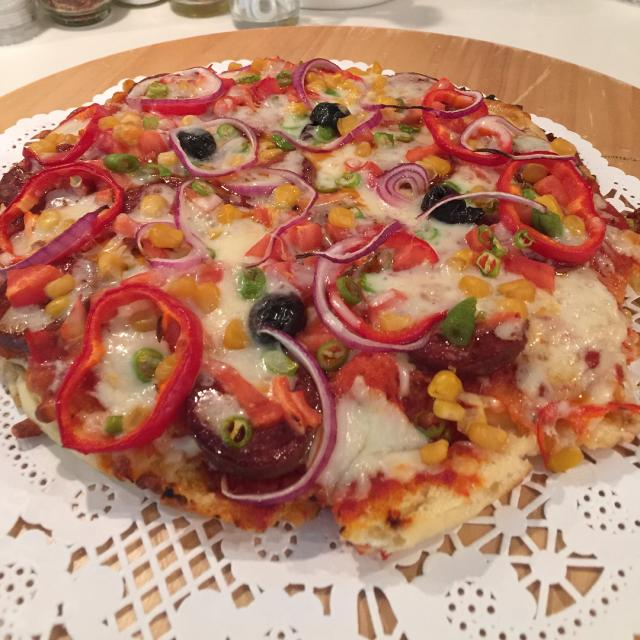black_olives: (250, 290, 304, 348), (417, 178, 482, 225), (308, 96, 352, 134), (175, 124, 218, 158)
pepperoni: (178, 367, 321, 482), (418, 294, 540, 378)
peppers: (50, 282, 204, 463), (494, 147, 606, 277), (2, 162, 126, 276), (326, 223, 430, 355), (424, 79, 515, 173), (126, 64, 225, 130)
pizza: (0, 57, 640, 564)
